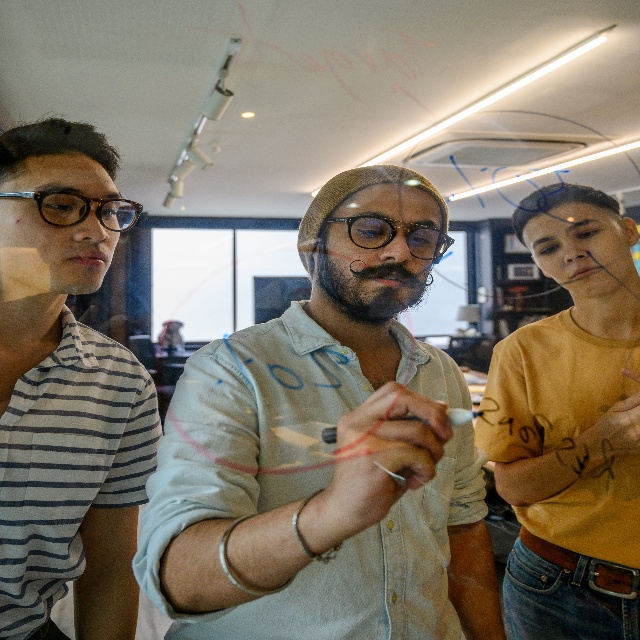Gafas: (324, 210, 454, 270), (0, 181, 145, 233)
Sin_guantes: (332, 379, 453, 535), (604, 362, 638, 458)
